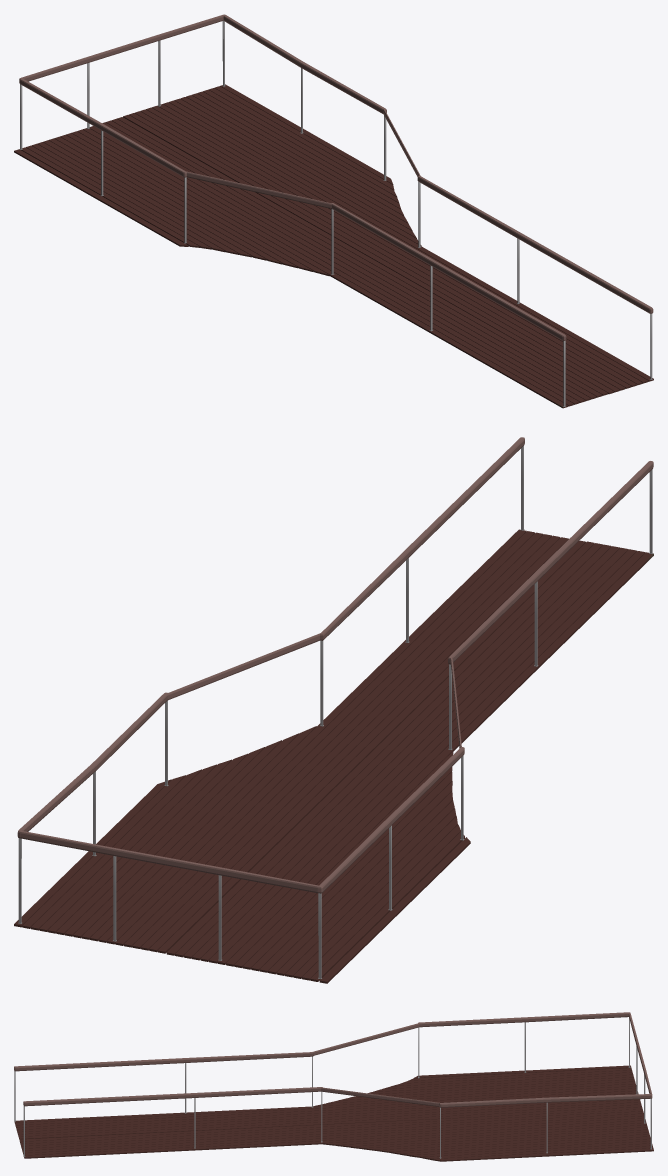
File: WE01_BoardWalk_Seperated.fbx
3 views of the same model, one above another, from view 1: azimuth 30°, elevation 25°; view 2: azimuth 150°, elevation 25°; view 3: azimuth 270°, elevation 25° (orthographic). The views are drawn at different scales.
Visible parts, largest first — view 1: Plank, Banister, Banister2, Banister1; view 2: Plank, Banister2, Banister, Banister1; view 3: Plank, Banister2, Banister, Banister1.
Boxes of the visible parts, x1,y1,x2,y2 form: Plank: (14,84,653,408); Banister: (19,77,566,406); Banister2: (222,14,653,379); Banister1: (21,15,223,128); Plank: (14,529,653,983); Banister2: (17,437,524,923); Banister: (317,461,653,979); Banister1: (20,831,318,960); Plank: (14,1065,653,1161); Banister2: (23,1087,652,1158); Banister: (14,1012,630,1121); Banister1: (628,1013,651,1123).
Size of the model in its own units: 10.03 by 2.76 by 28.44.
